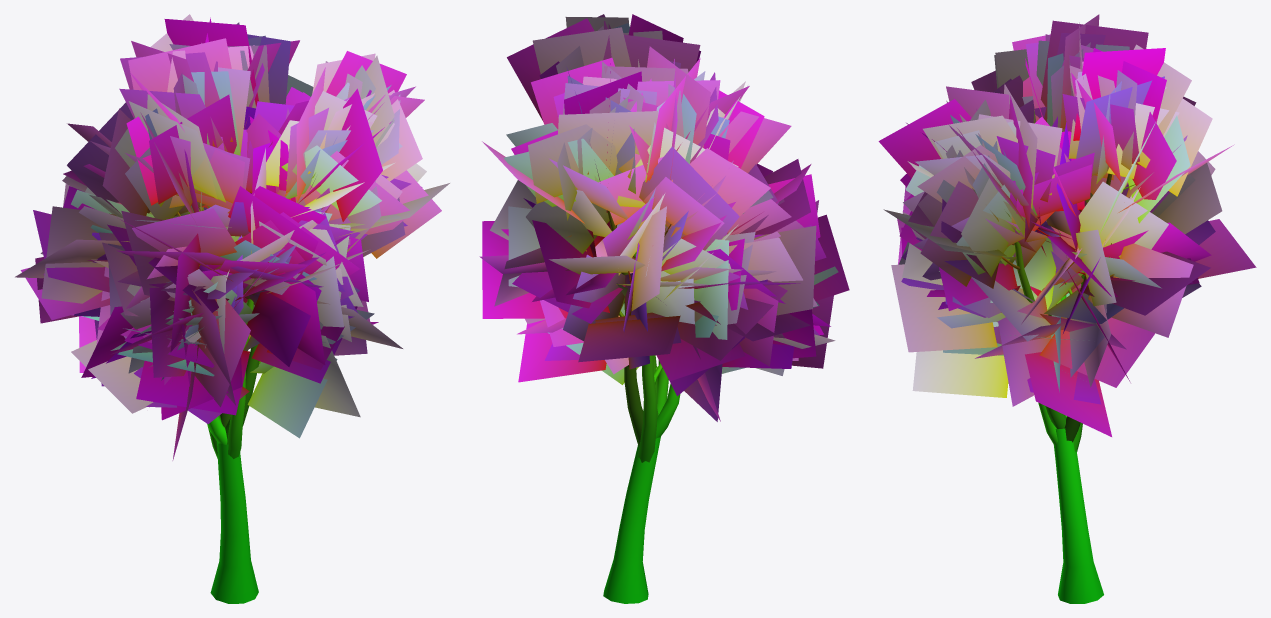
Rendered from TreeMaple.fbx.
3 views of the same model, side by side, from view 1: azimuth 30°, elevation 25°; view 2: azimuth 150°, elevation 25°; view 3: azimuth 270°, elevation 25° (orthographic). The views are drawn at different scales.
Parts seen in each view (by area): view 1: TreeMaple_LOD0; view 2: TreeMaple_LOD0; view 3: TreeMaple_LOD0.
Part boxes in pixels (x1,y1,x2,y2): TreeMaple_LOD0: [15, 14, 449, 603]; TreeMaple_LOD0: [479, 14, 849, 603]; TreeMaple_LOD0: [878, 14, 1256, 603].
Size of what is drawn, in the model's own units: 5.77 by 8.79 by 5.47.
